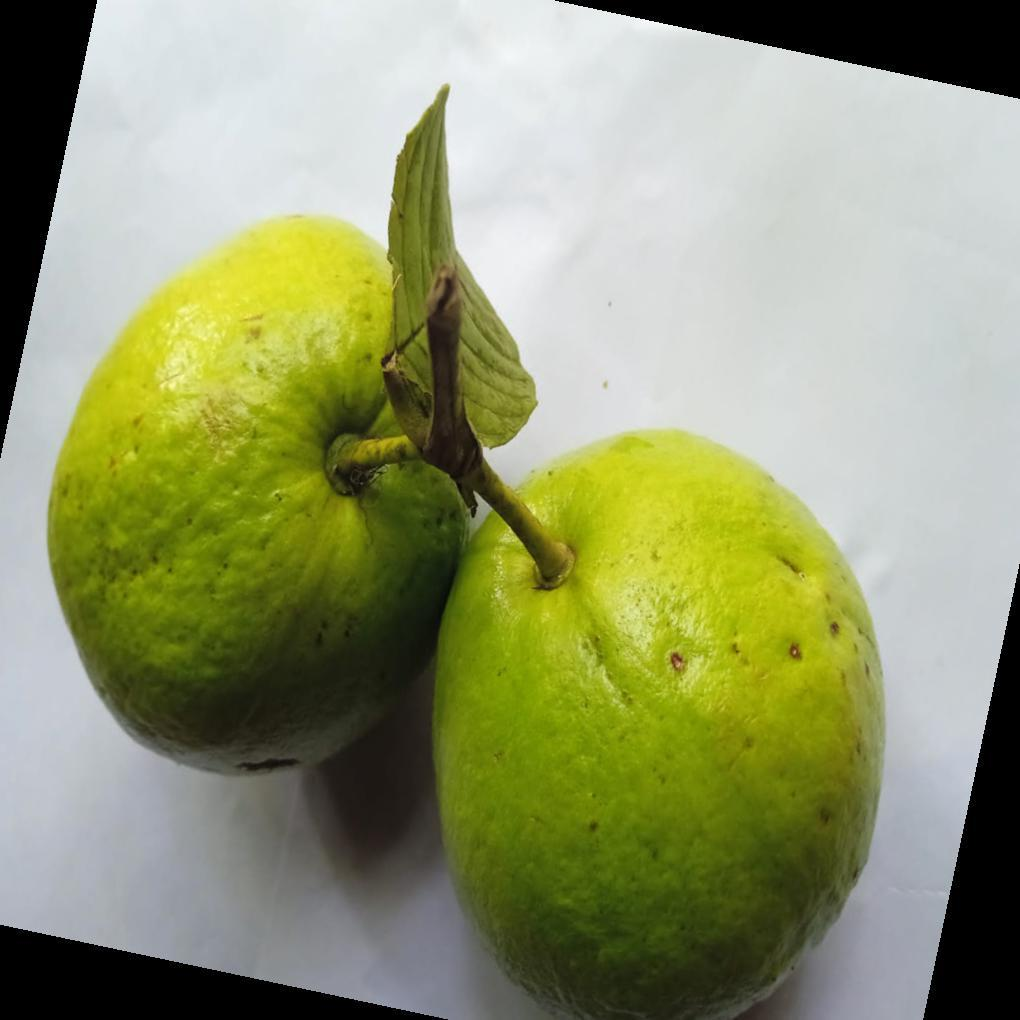FreshGuava: (43, 91, 887, 1020)
